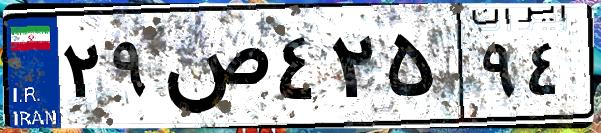2: (330, 28, 385, 110), (57, 26, 110, 100)
4: (270, 28, 330, 110), (525, 38, 570, 115)
5: (385, 28, 445, 110)
9: (475, 38, 525, 113), (110, 28, 158, 98)
ص: (158, 20, 270, 120)
